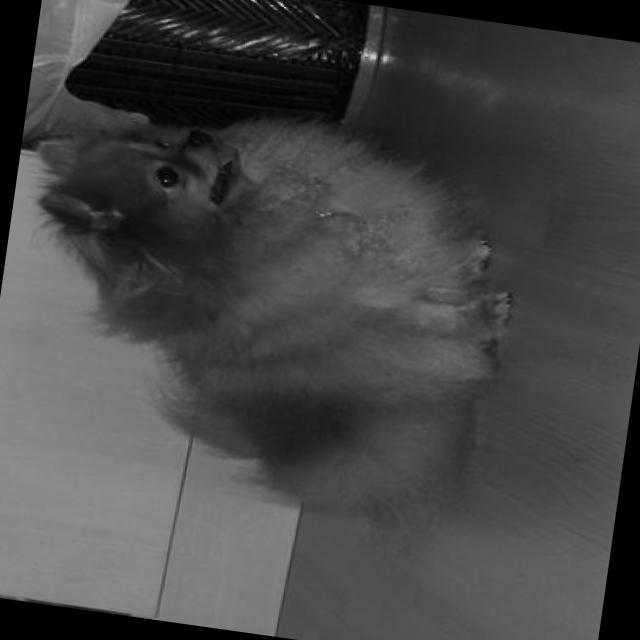sitting: (0, 80, 540, 556)
